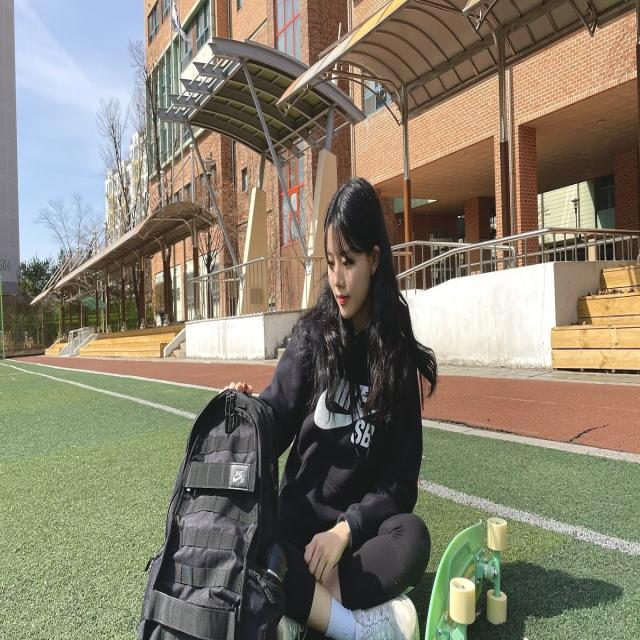backpack: (135, 352, 294, 640)
